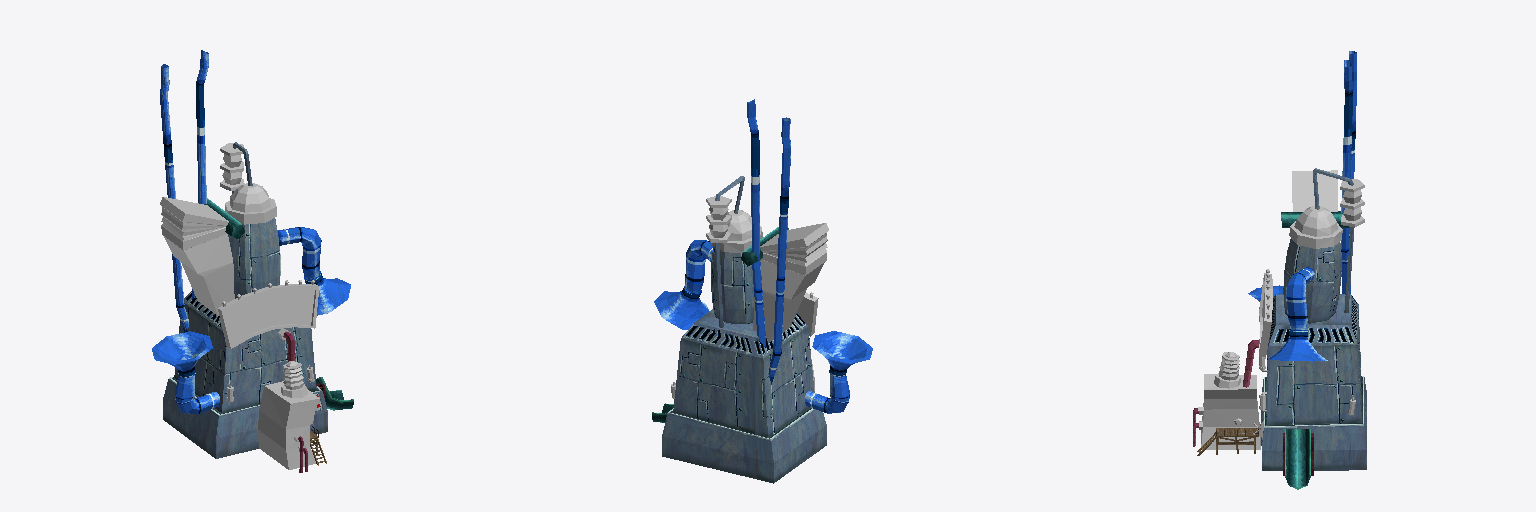
3 renders of one model, left to right at view 1: azimuth 30°, elevation 25°; view 2: azimuth 150°, elevation 25°; view 3: azimuth 270°, elevation 25°, orthographic.
Parts seen in each view (by area): view 1: Material_#79, Material_#82, Material_#85, Material_#83; view 2: Material_#82, Material_#85, Material_#79, Material_#83; view 3: Material_#82, Material_#79, Material_#85, Material_#83, Material_#80.
Boxes of the visible parts, <box> form: Material_#79: <box>160,143,319,469</box>; Material_#82: <box>163,142,327,458</box>; Material_#85: <box>152,50,350,413</box>; Material_#83: <box>204,198,353,410</box>; Material_#82: <box>662,176,826,483</box>; Material_#85: <box>654,99,872,413</box>; Material_#79: <box>671,196,828,398</box>; Material_#83: <box>652,227,788,422</box>; Material_#82: <box>1261,168,1366,470</box>; Material_#79: <box>1198,170,1364,449</box>; Material_#85: <box>1248,51,1356,361</box>; Material_#83: <box>1281,211,1349,489</box>; Material_#80: <box>1197,428,1258,455</box>.
Size of the model in its own units: 14.13 by 24.72 by 10.51.
Materials: 8 (7 with a texture image).